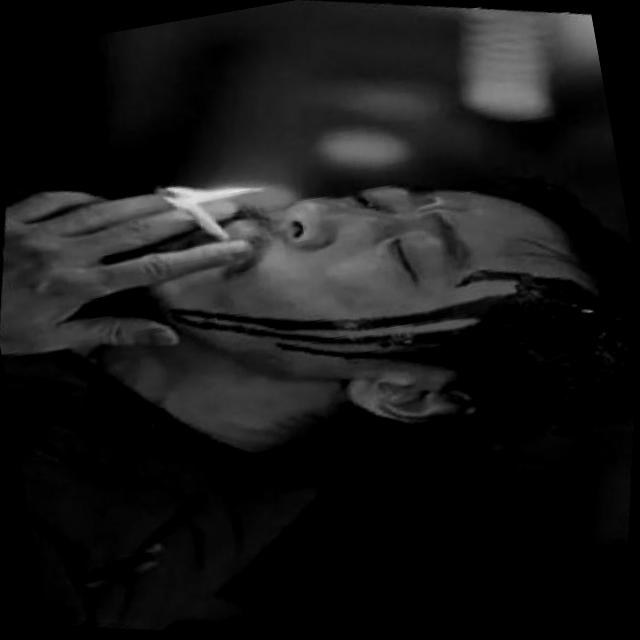smoke: (154, 182, 246, 262)
